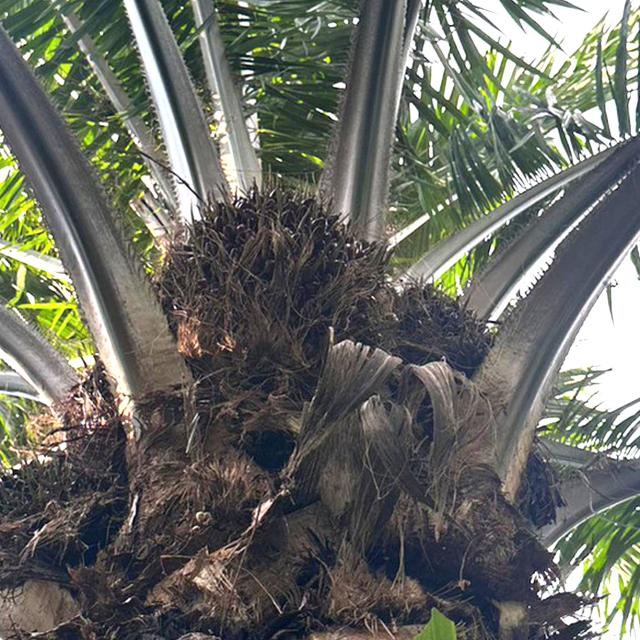unripe: (144, 172, 396, 444)
